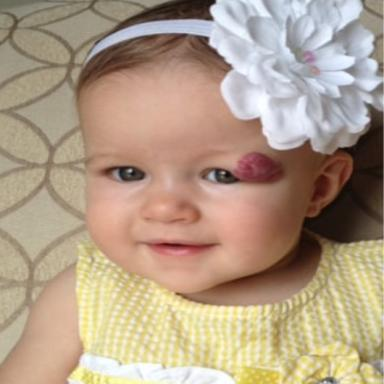Hemangiome: (234, 152, 283, 182)
